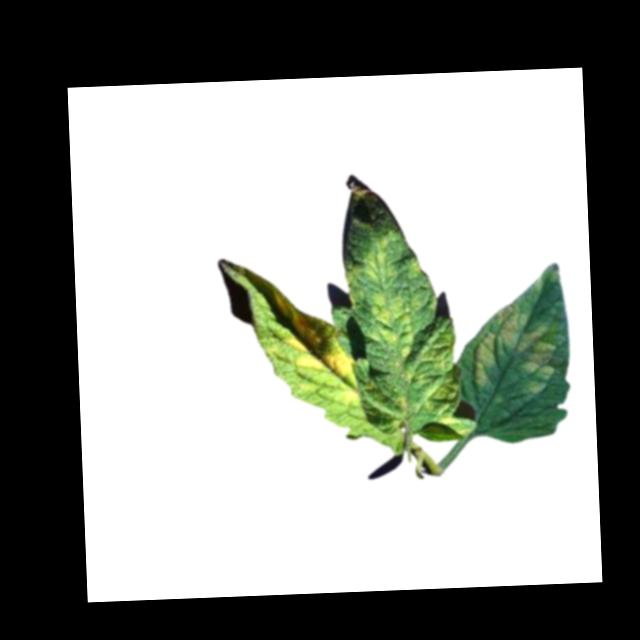Leaf_Mold: (471, 301, 564, 401), (274, 283, 354, 382), (360, 232, 418, 361), (402, 326, 463, 420), (338, 387, 360, 405)
